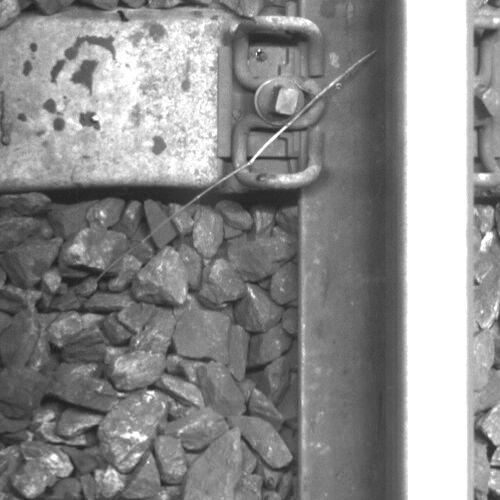rail: (401, 2, 475, 500)
tie_concr: (1, 15, 294, 186)
vossloh: (218, 14, 323, 189)
